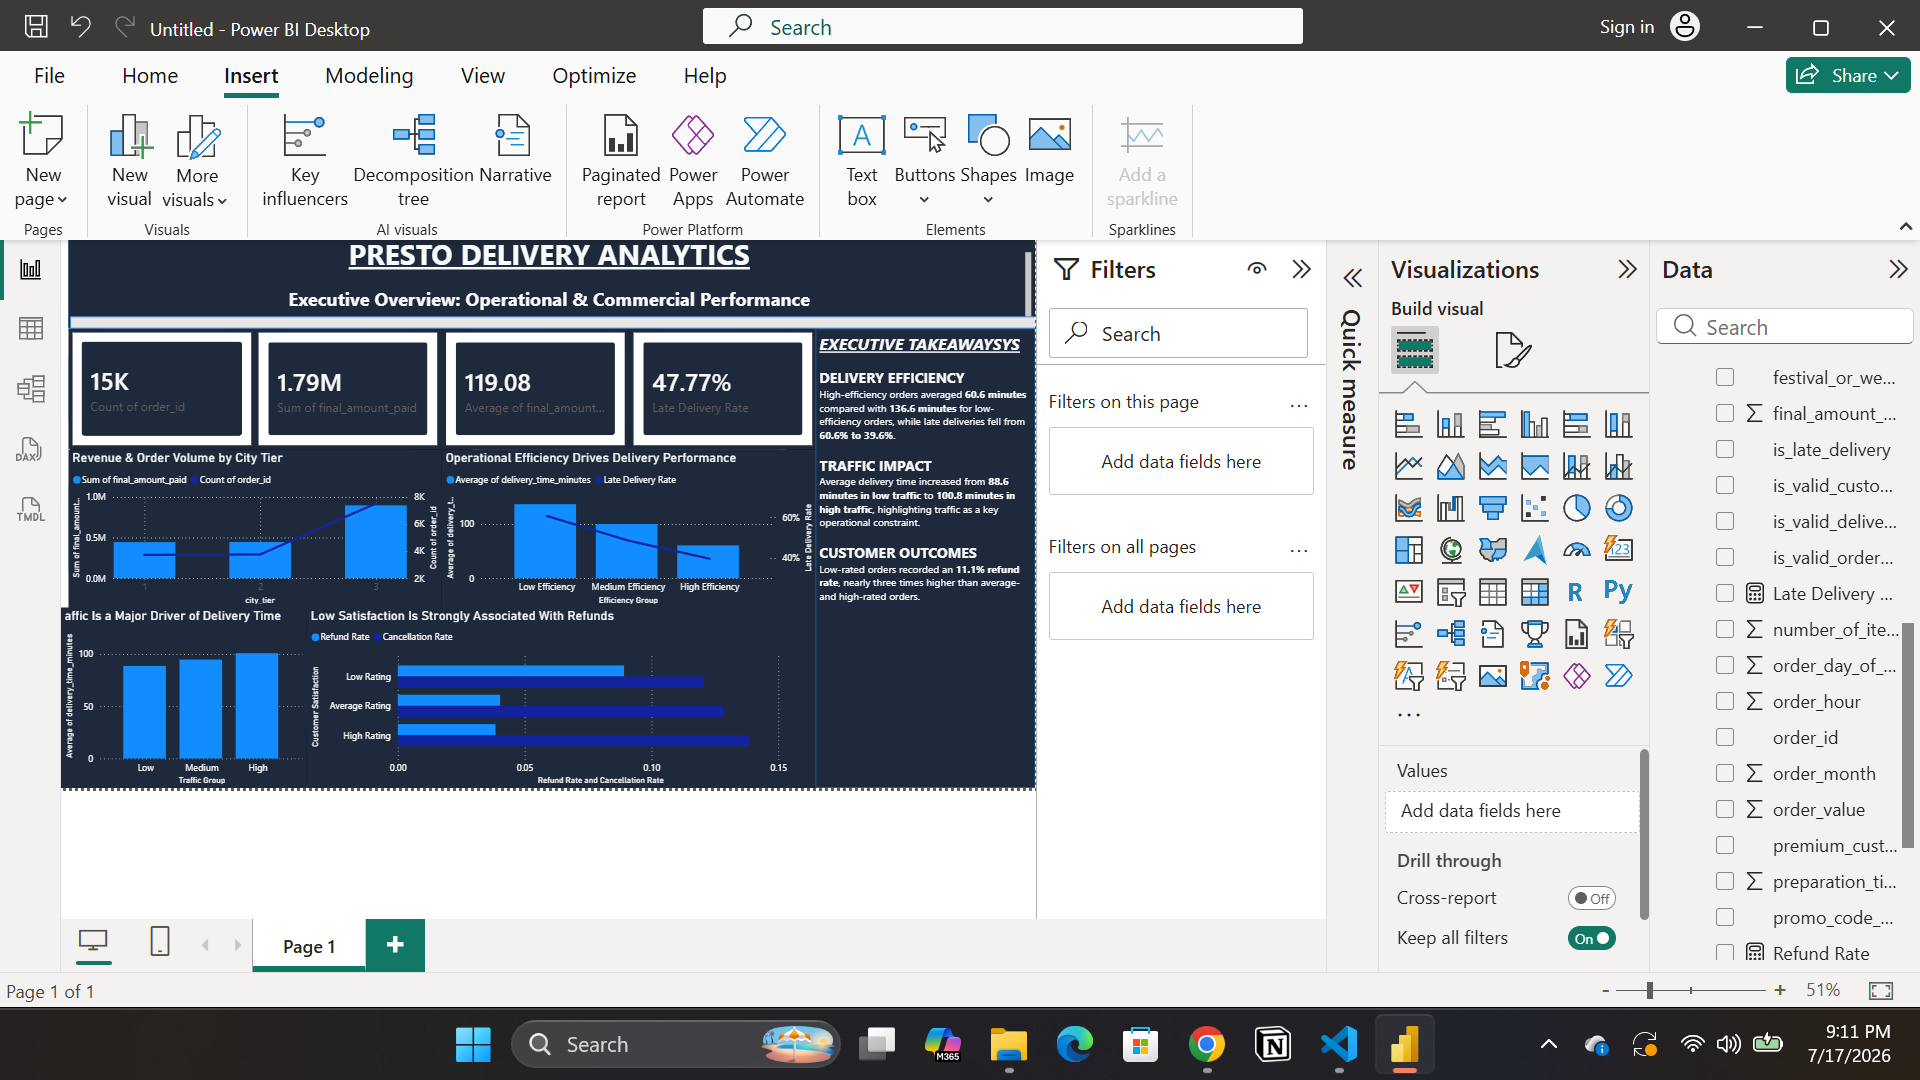

The page's visual inventory and layout, read from the dashboard file:
{"tool":"powerbi","page":{"name":"Page 1","canvas":[1280,720],"ordinal":0},"visuals":[{"type":"shape","box":[12,0,1268.7,719],"z":0},{"type":"shape","box":[9.4,0,1269.9,115.3],"z":1},{"type":"textbox","box":[9.4,0,1269.9,115.3],"z":2},{"type":"shape","box":[746.5,115.3,245.7,158.7],"z":6},{"type":"shape","box":[500.8,115.3,245.7,158.7],"z":7},{"type":"shape","box":[255.1,115.3,245.7,158.7],"z":8},{"type":"shape","box":[9.4,115.3,245.7,158.7],"z":9},{"type":"shape","box":[10,274.9,490,207.1],"z":10},{"type":"shape","box":[500.8,274,491.3,207.9],"z":11},{"type":"shape","box":[10,482,312.7,207.1],"z":12},{"type":"shape","box":[322.7,482,669.2,207.1],"z":13},{"type":"cardVisual","fields":{"Data":["Count(silver_orders_clean.order_id)"]},"box":[9.4,115.3,245.7,158.7],"z":14},{"type":"cardVisual","fields":{"Data":["Sum(silver_orders_clean.final_amount_paid)"]},"box":[255.1,115.3,245.7,158.7],"z":15},{"type":"cardVisual","fields":{"Data":["Avg(silver_orders_clean.final_amount_paid)"]},"box":[500.8,115.3,245.7,158.7],"z":16},{"type":"cardVisual","fields":{"Data":["silver_orders_clean.Late Delivery Rate"]},"box":[746.5,115.3,245.7,158.7],"z":17},{"type":"lineClusteredColumnComboChart","title":"Revenue & Order Volume by City Tier","fields":{"Category":["silver_orders_clean.city_tier"],"Y":["Sum(silver_orders_clean.final_amount_paid)"],"Y2":["Count(silver_orders_clean.order_id)"]},"box":[10,274.9,490,207.1],"z":18},{"type":"lineClusteredColumnComboChart","title":"Operational Efficiency Drives Delivery Performance","fields":{"Category":["silver_orders_clean.Efficiency Group"],"Y":["Avg(silver_orders_clean.delivery_time_minutes)"],"Y2":["silver_orders_clean.Late Delivery Rate"]},"box":[499.9,274.9,492,207.1],"z":19},{"type":"columnChart","title":"Traffic Increases Delivery Time","fields":{"Category":["silver_orders_clean.Traffic Group"],"Y":["Avg(silver_orders_clean.delivery_time_minutes)"]},"box":[0,482,322.7,237],"z":20},{"type":"clusteredBarChart","title":"Low Satisfaction Drives Refunds","fields":{"Category":["silver_orders_clean.Customer Satisfaction"],"Y":["silver_orders_clean.Refund Rate","silver_orders_clean.Cancellation Rate"]},"box":[322.7,482,669.2,237],"z":21},{"type":"shape","box":[991.9,115.5,288.8,603.5],"z":22},{"type":"textbox","box":[991.9,115.5,288.8,603.5],"z":23},{"type":"shape","box":[11.8,100.5,1268.9,15.8],"z":24}]}

Visuals, with their boxes on the page's 1280x720 design canvas (x1, y1, x2, y2). These are canvas units, not pixel positions in the 1920x1080 screenshot, which may show the page scaled, cropped or inside an application window:
shape: (left=12, top=0, right=1281, bottom=719)
shape: (left=9, top=0, right=1279, bottom=115)
textbox: (left=9, top=0, right=1279, bottom=115)
shape: (left=746, top=115, right=992, bottom=274)
shape: (left=501, top=115, right=746, bottom=274)
shape: (left=255, top=115, right=501, bottom=274)
shape: (left=9, top=115, right=255, bottom=274)
shape: (left=10, top=275, right=500, bottom=482)
shape: (left=501, top=274, right=992, bottom=482)
shape: (left=10, top=482, right=323, bottom=689)
shape: (left=323, top=482, right=992, bottom=689)
cardVisual - Count(silver_orders_clean.order_id): (left=9, top=115, right=255, bottom=274)
cardVisual - Sum(silver_orders_clean.final_amount_paid): (left=255, top=115, right=501, bottom=274)
cardVisual - Avg(silver_orders_clean.final_amount_paid): (left=501, top=115, right=746, bottom=274)
cardVisual - silver_orders_clean.Late Delivery Rate: (left=746, top=115, right=992, bottom=274)
"Revenue & Order Volume by City Tier" lineClusteredColumnComboChart: (left=10, top=275, right=500, bottom=482)
"Operational Efficiency Drives Delivery Performance" lineClusteredColumnComboChart: (left=500, top=275, right=992, bottom=482)
"Traffic Increases Delivery Time" columnChart: (left=0, top=482, right=323, bottom=719)
"Low Satisfaction Drives Refunds" clusteredBarChart: (left=323, top=482, right=992, bottom=719)
shape: (left=992, top=116, right=1281, bottom=719)
textbox: (left=992, top=116, right=1281, bottom=719)
shape: (left=12, top=100, right=1281, bottom=116)
